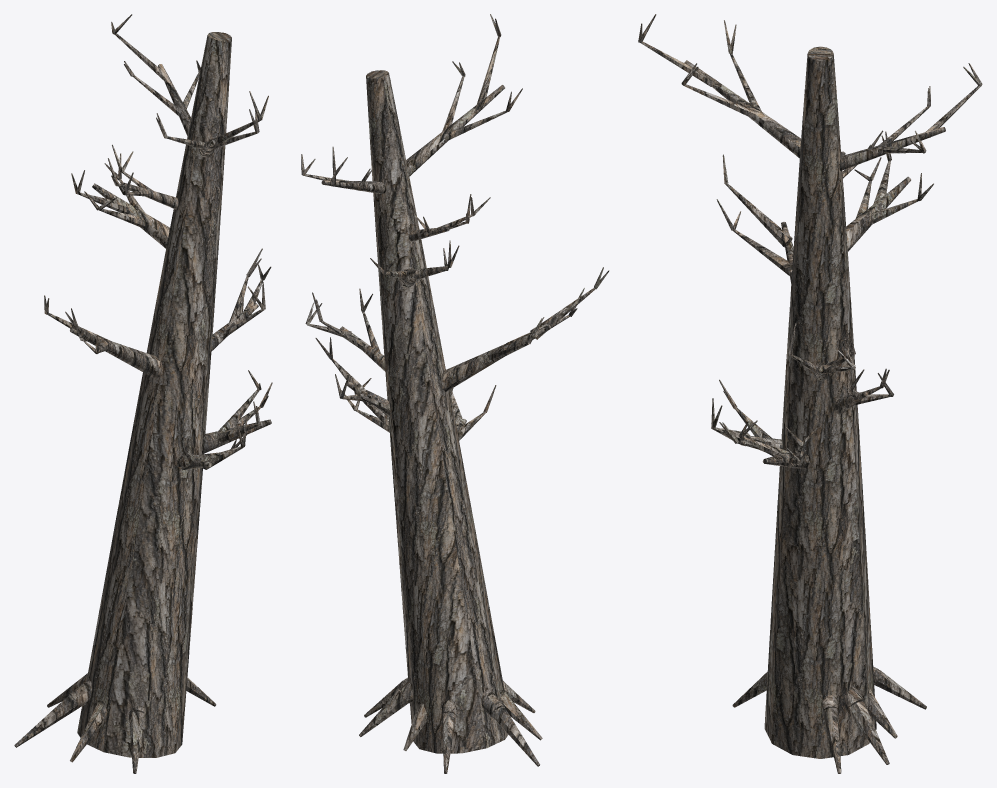
Rendered from uprooted-leaning-v01.glb.
3 renders of one model, left to right at view 1: azimuth 30°, elevation 25°; view 2: azimuth 150°, elevation 25°; view 3: azimuth 270°, elevation 25°, orthographic. The views are drawn at different scales.
Parts seen in each view (by area): view 1: dead-tree-lean; view 2: dead-tree-lean; view 3: dead-tree-lean.
Part boxes in pixels (x1,y1,x2,y2): dead-tree-lean: [14, 14, 272, 773]; dead-tree-lean: [301, 14, 609, 773]; dead-tree-lean: [638, 14, 982, 773].
Bounding box in the file's own units: 3.13 × 8.04 × 3.37.
Materials: 1 (1 with a texture image).
